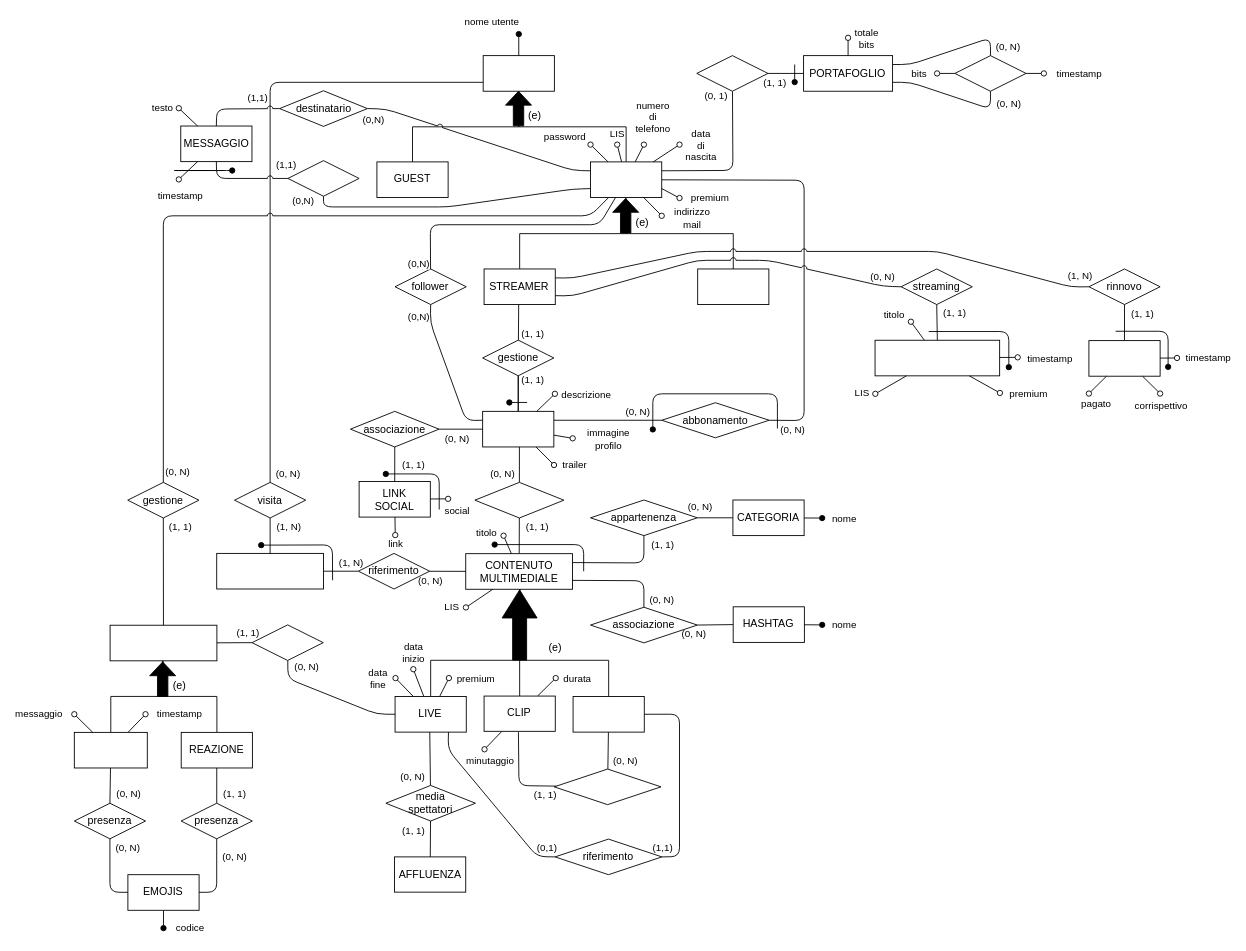
Some shapes in this 1246 by 951 pixel diagram are drawn without their labels. Each missing label, with the centre of its shape:
"CANALE" goes at pixel 518 428.
"COMMENTO" goes at pixel 110 749.
"contenitore" goes at pixel 519 499.
"conto" goes at pixel 732 73.
"donazione" goes at pixel 990 73.
"HOSTING" goes at pixel 1124 358.
"INTERAZIONE" goes at pixel 163 642.
"invio" goes at pixel 287 642.
"mittente" goes at pixel 323 178.
"PROGRAMMAZIONE" goes at pixel 937 357.
"REGISTRATO" goes at pixel 626 179.
"scomposizione" goes at pixel 607 786.
"SPETTATORE" goes at pixel 733 286.
"UTENTE" goes at pixel 518 73.
"VIDEO" goes at pixel 608 714.
"VISUALIZZAZIONE" goes at pixel 270 571.
